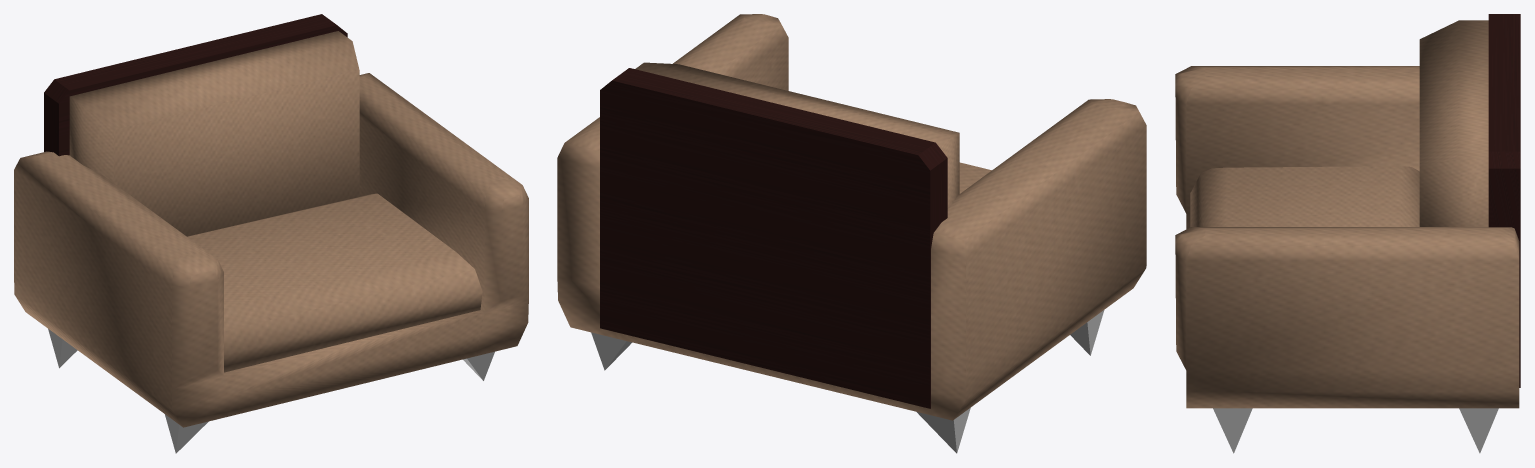
Rendered from Armchair_A_2.FBX.
3 renders of one model, left to right at view 1: azimuth 30°, elevation 25°; view 2: azimuth 150°, elevation 25°; view 3: azimuth 270°, elevation 25°, orthographic. The views are drawn at different scales.
Parts seen in each view (by area): view 1: Flatback_Chair; view 2: Flatback_Chair; view 3: Flatback_Chair.
Boxes of the visible parts, x1,y1,x2,y2 form: Flatback_Chair: (14,14,528,453); Flatback_Chair: (557,14,1146,453); Flatback_Chair: (1175,14,1520,453).
Bounding box in the file's own units: 214 × 157 × 170.
